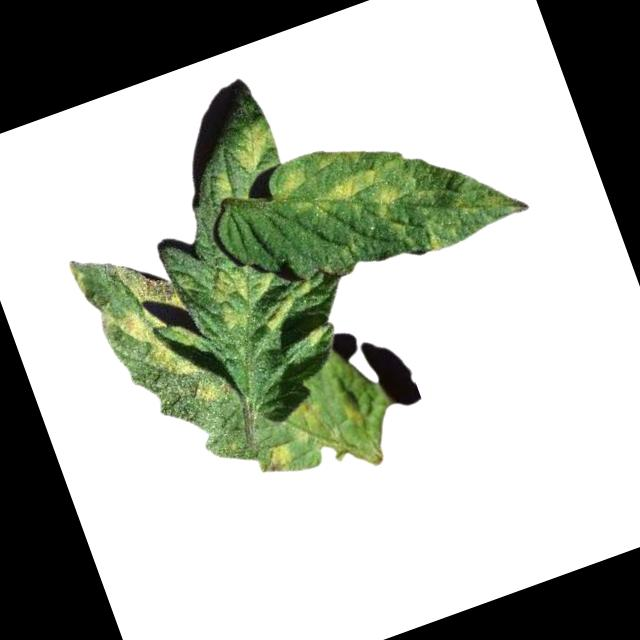Leaf_Mold: (199, 240, 327, 348), (311, 153, 411, 235), (113, 248, 184, 324), (224, 116, 284, 174), (145, 333, 203, 390), (114, 308, 161, 354), (268, 159, 314, 204), (253, 435, 300, 479), (184, 373, 232, 412)
